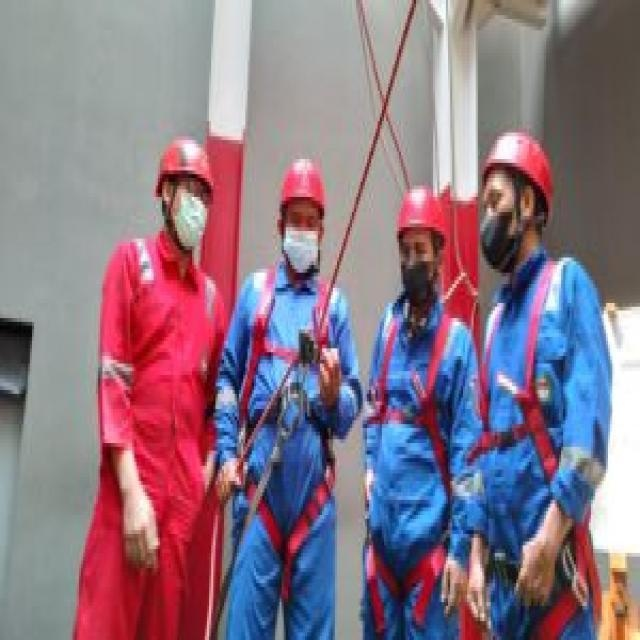Arnes_seguridad: (486, 264, 595, 625), (245, 268, 338, 548), (367, 309, 456, 597)
